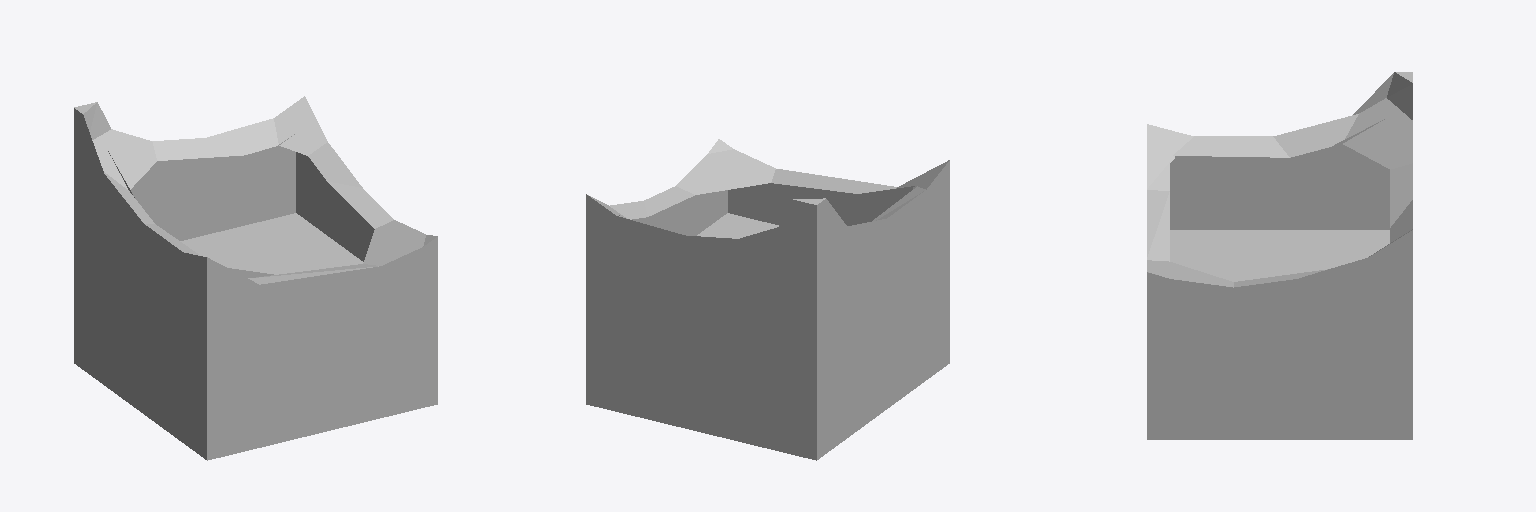
Rendered from building02.obj.
3 renders of one model, left to right at view 1: azimuth 30°, elevation 25°; view 2: azimuth 150°, elevation 25°; view 3: azimuth 270°, elevation 25°, orthographic.
Parts seen in each view (by area): view 1: Cube_Cube.001; view 2: Cube_Cube.001; view 3: Cube_Cube.001.
Boxes of the visible parts, <box> form: Cube_Cube.001: <box>74,96,437,460</box>; Cube_Cube.001: <box>586,139,949,460</box>; Cube_Cube.001: <box>1147,72,1412,439</box>.
Size of the model in its own units: 1 by 1.06 by 1.